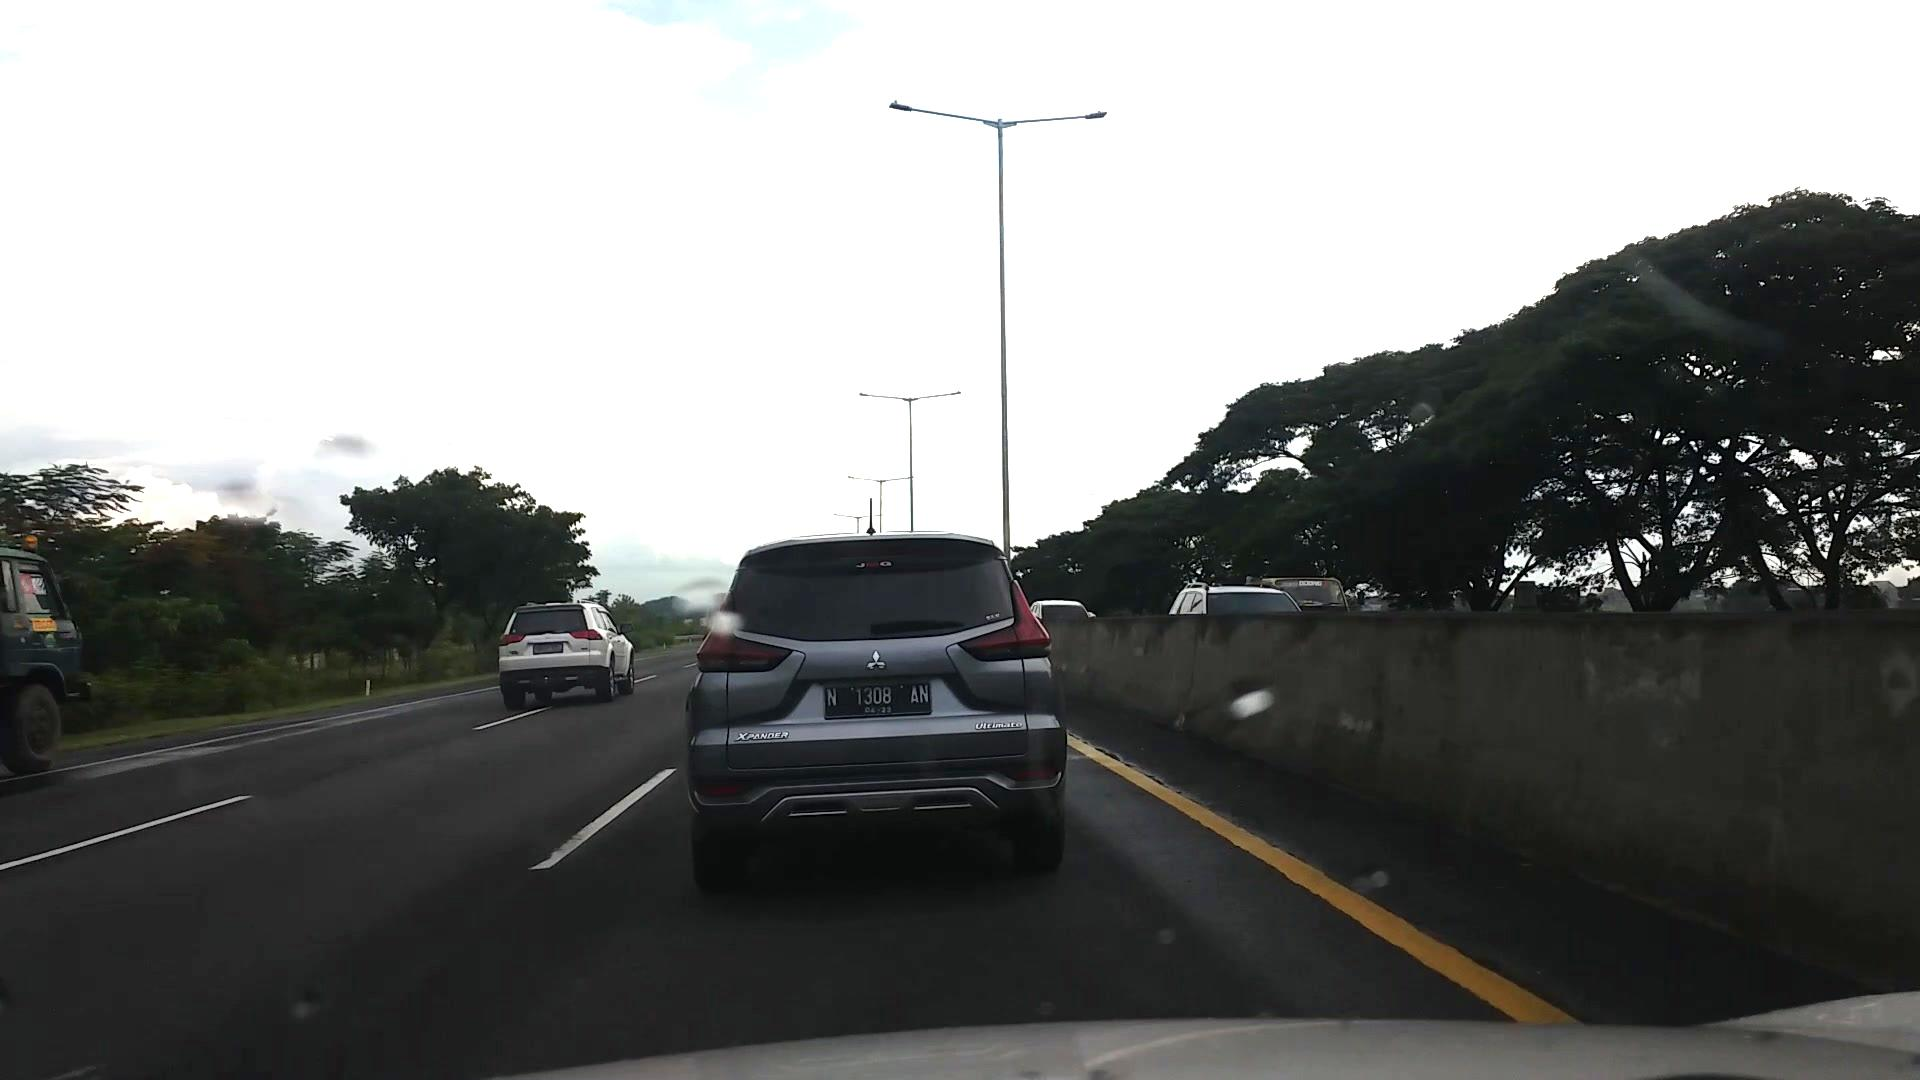plate_positive: (824, 682, 931, 717)
